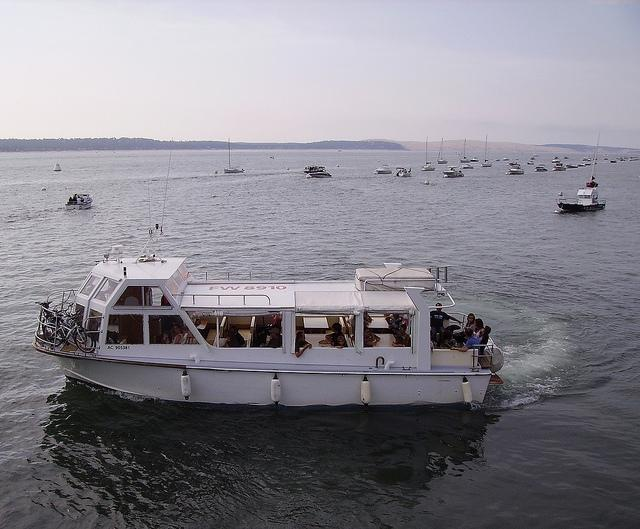bicycle: (42, 314, 96, 355), (35, 300, 63, 324)
